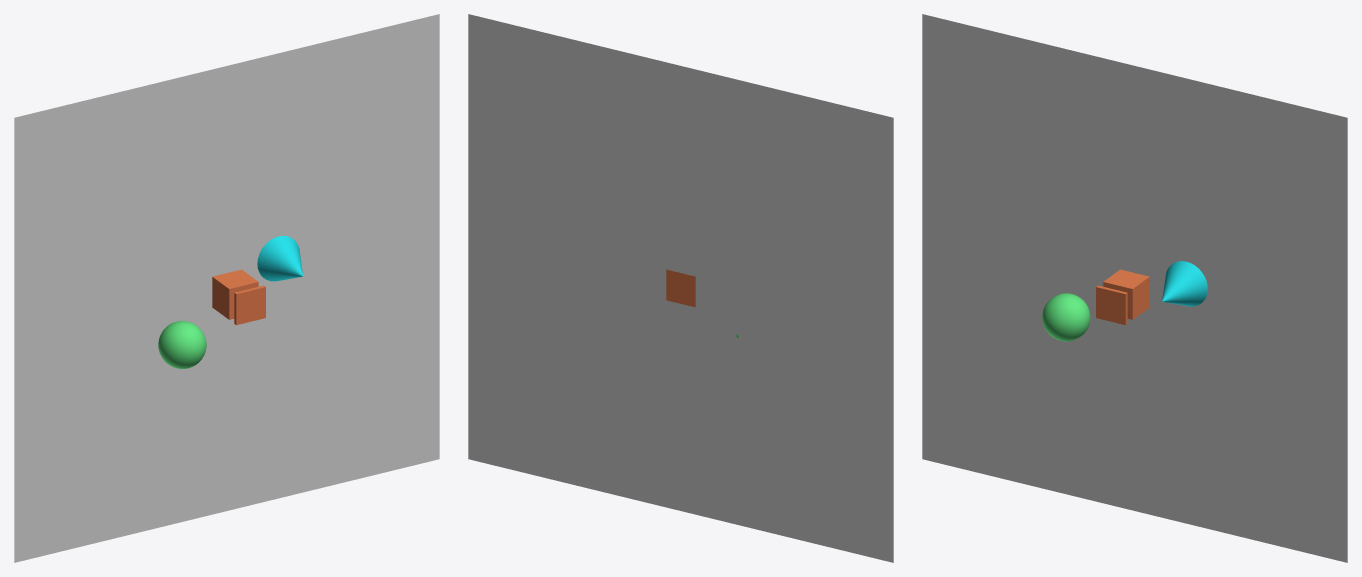
The model's file is simple_raytracer_test.glb.
3 renders of one model, left to right at view 1: azimuth 30°, elevation 25°; view 2: azimuth 150°, elevation 25°; view 3: azimuth 330°, elevation 25°, orthographic.
Parts seen in each view (by area): view 1: Plane, Cube, Icosphere, Cone; view 2: Plane, Cube; view 3: Plane, Cube, Icosphere, Cone.
Boxes of the visible parts, <box> form: Plane: <box>14,14,439,562</box>; Cube: <box>212,269,265,325</box>; Icosphere: <box>158,321,206,368</box>; Cone: <box>257,236,302,281</box>; Plane: <box>468,14,893,562</box>; Cube: <box>666,269,695,307</box>; Plane: <box>922,14,1347,562</box>; Cube: <box>1096,269,1149,325</box>; Icosphere: <box>1042,293,1090,341</box>; Cone: <box>1162,261,1207,306</box>.
Size of the model in its own units: 20 by 20 by 1.99.
